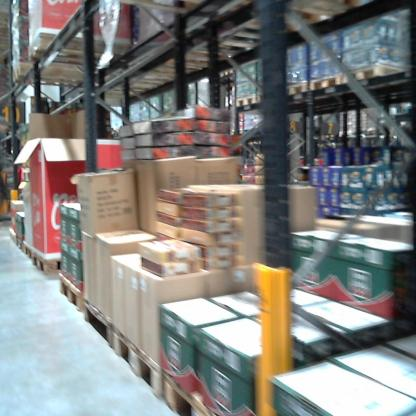pallet: (114, 320, 167, 412), (8, 47, 124, 88), (29, 31, 135, 69), (163, 368, 228, 414), (339, 58, 403, 92), (59, 274, 93, 318), (85, 300, 113, 345), (307, 66, 343, 97), (34, 247, 67, 278), (275, 81, 307, 108), (227, 89, 257, 115), (23, 240, 36, 263), (257, 89, 272, 102), (16, 236, 25, 254)
